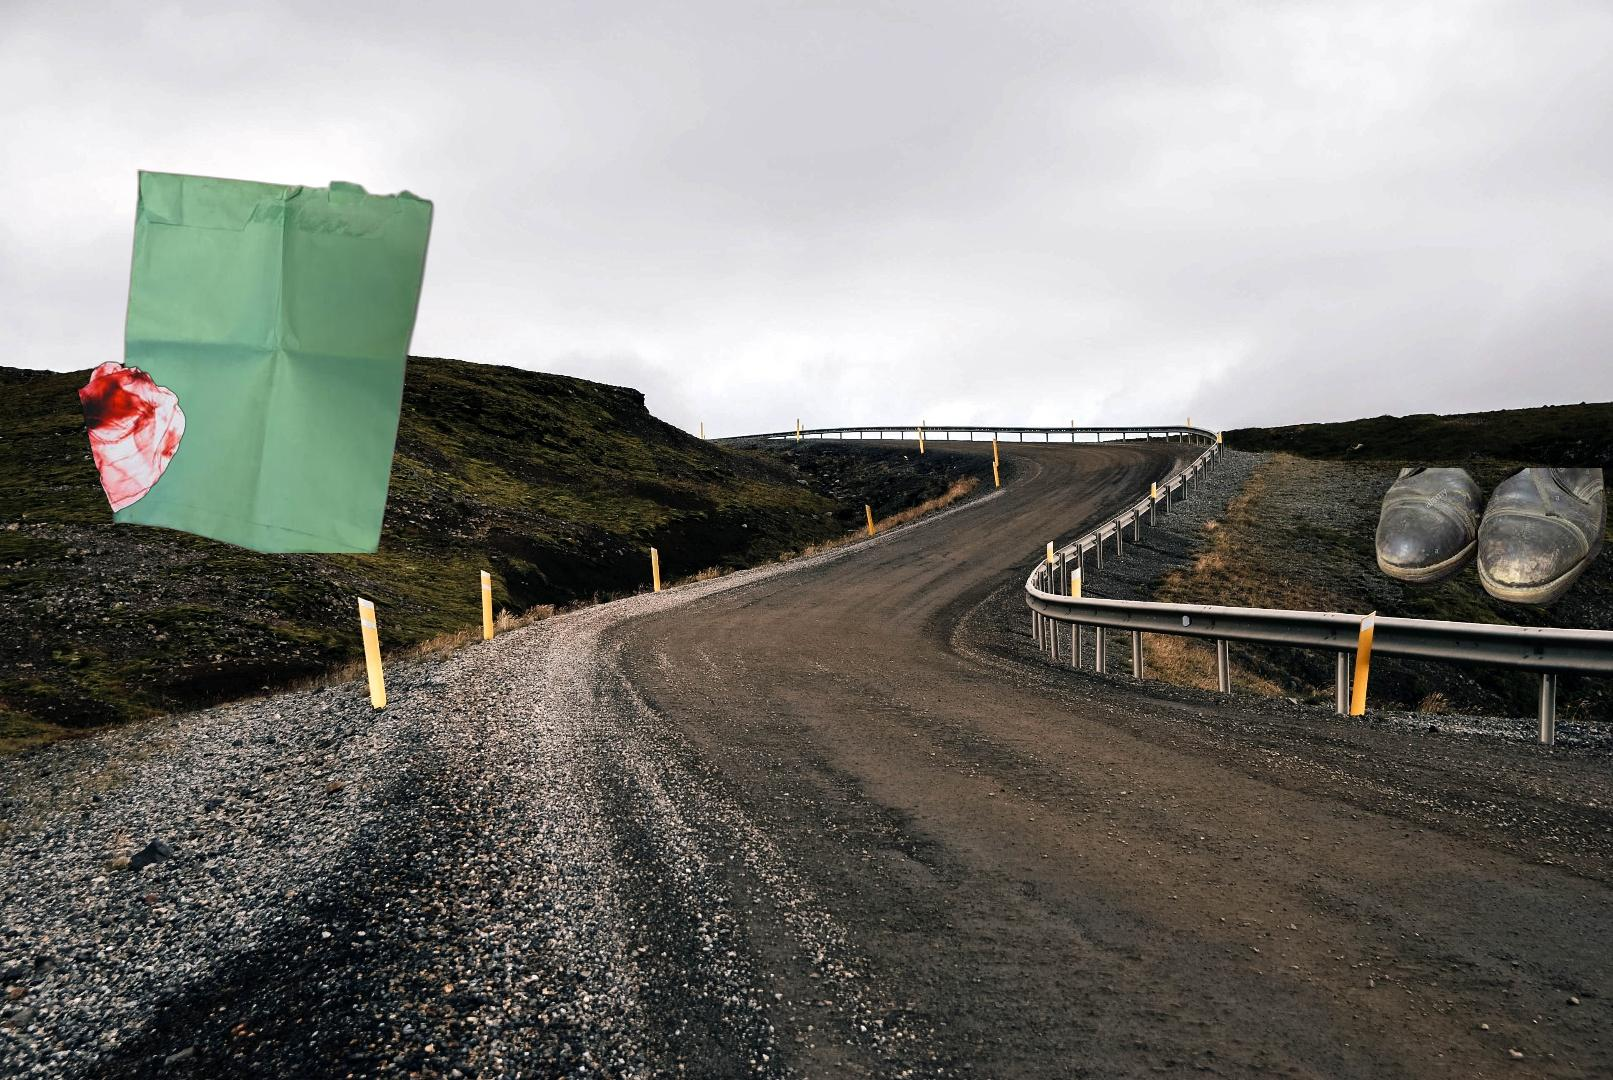paper: (108, 169, 439, 553)
plastic-bag: (75, 359, 189, 517)
shoes: (1372, 468, 1611, 611)
